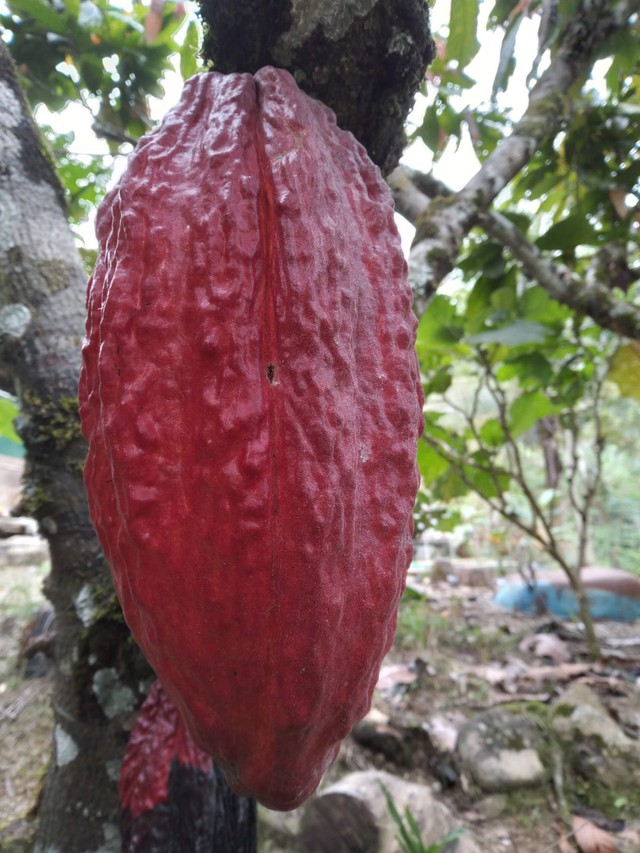Health: (74, 62, 437, 818)
